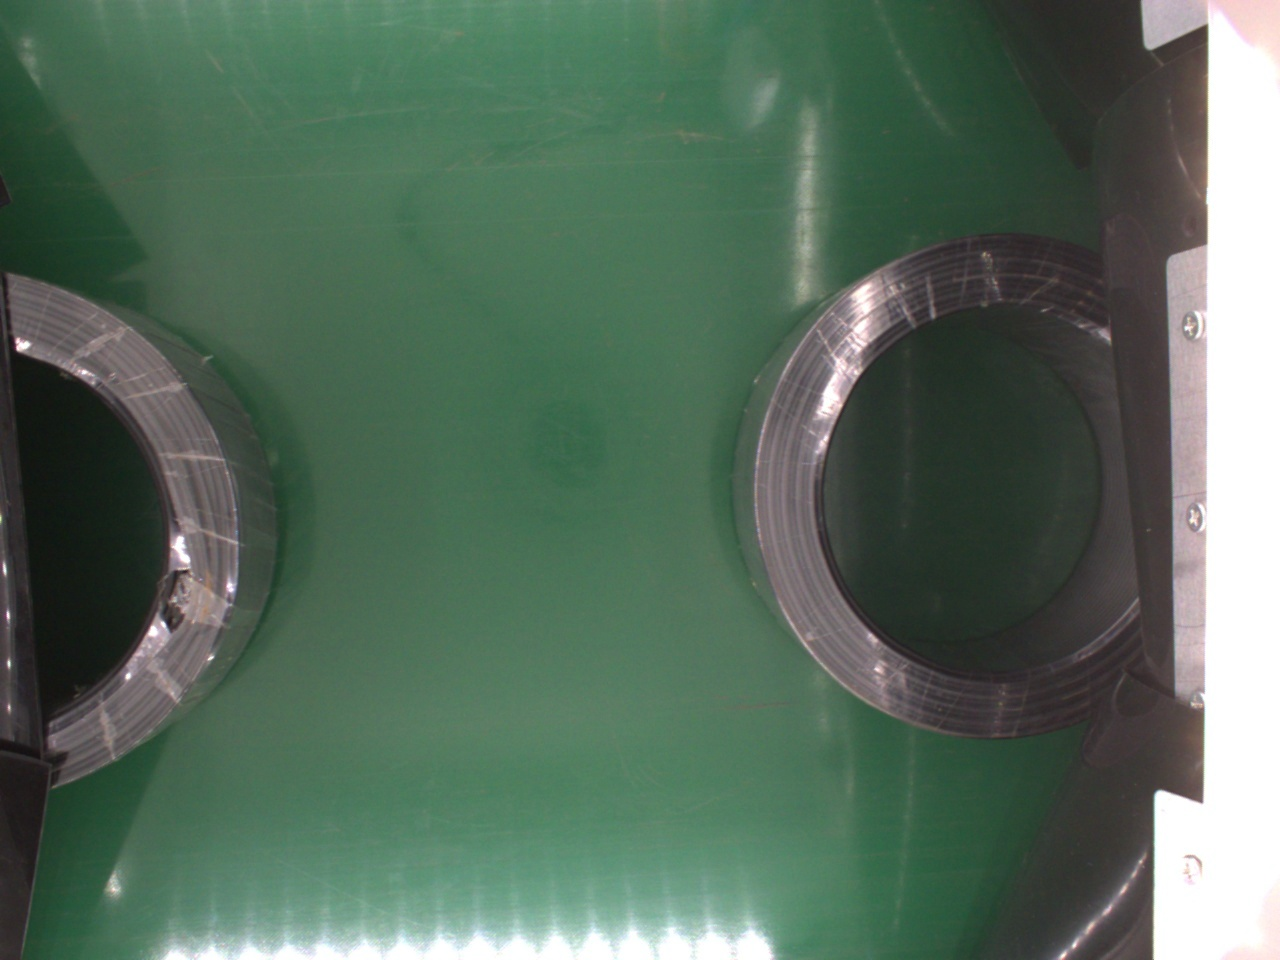black: (729, 233, 1138, 739), (14, 272, 278, 782)
